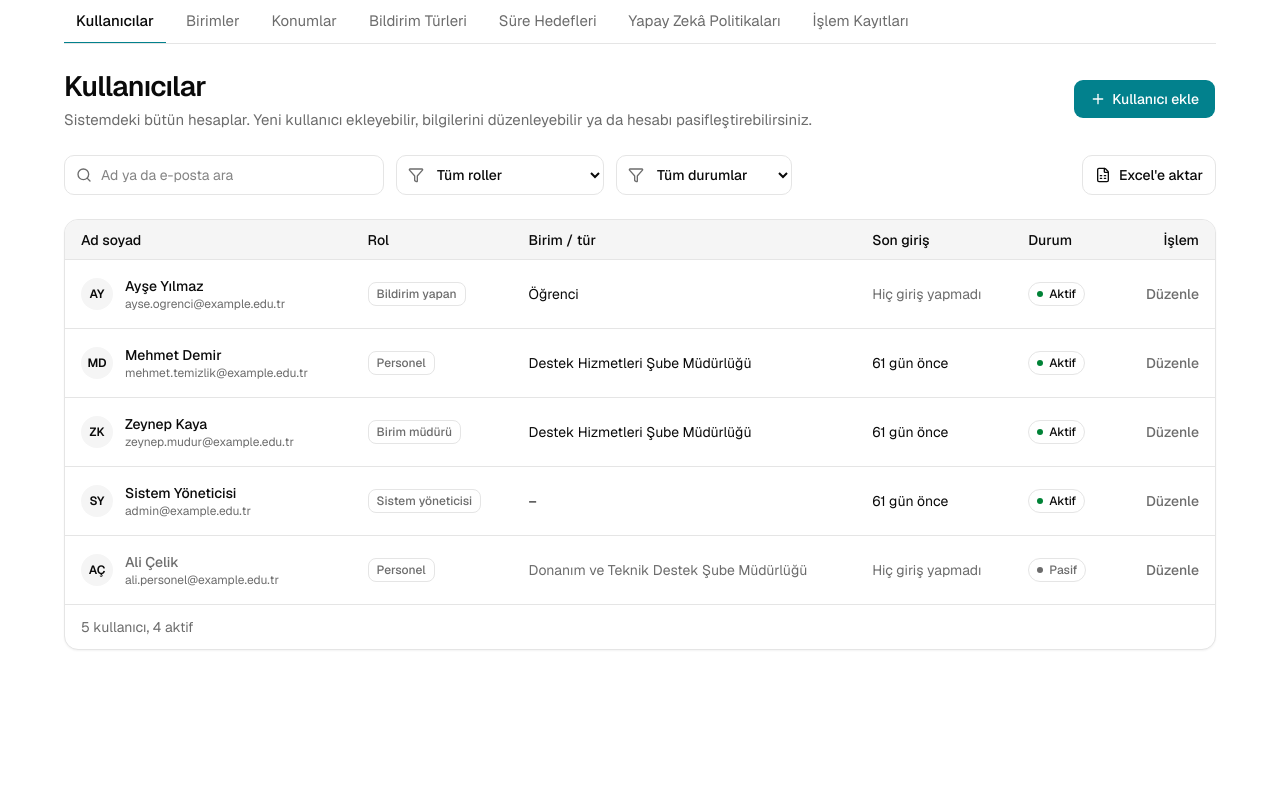
Scenario: UsersScreen › offers to clear the filters when nothing matches
The width and height of the screenshot is (1280, 800).
Type "olmayan biri" into the search field named "Kullanıcı ara" at (224, 175), box [64, 155, 384, 195]
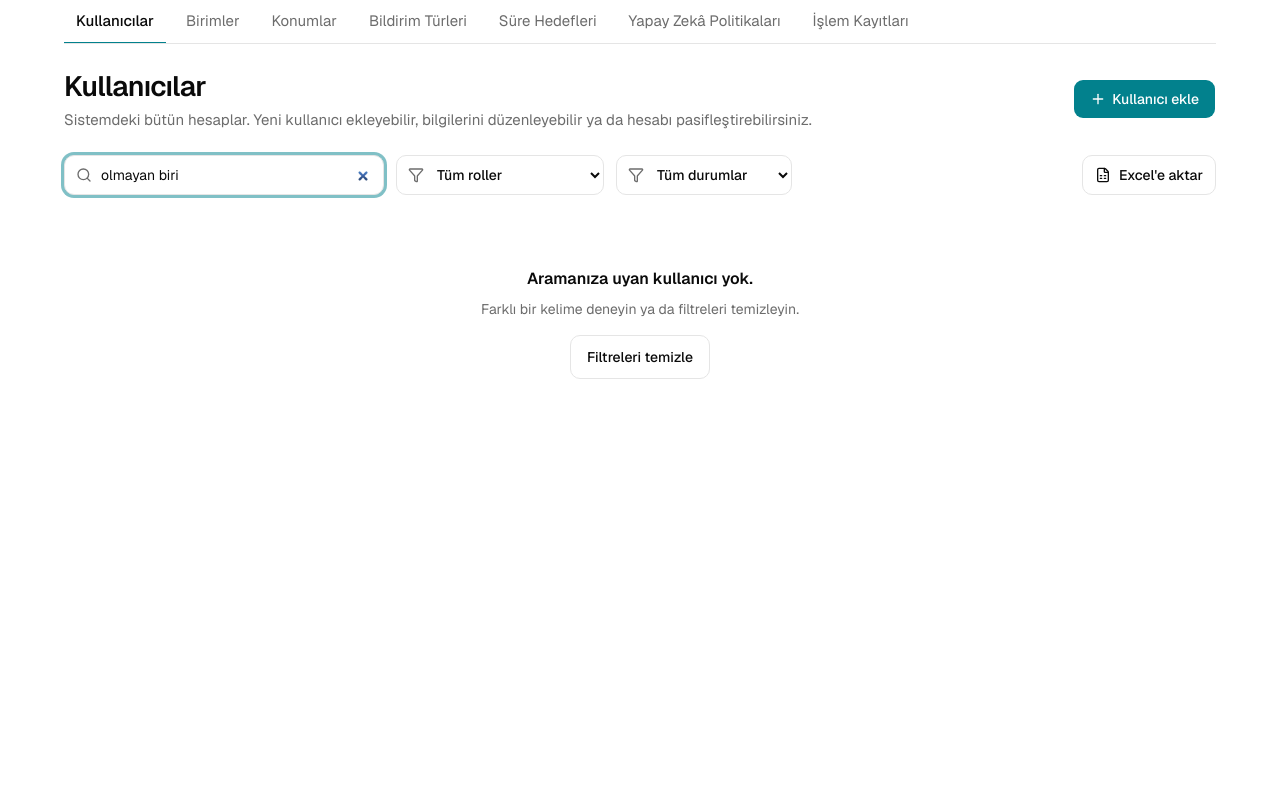
expect the text "Aramanıza uyan kullanıcı yok." is shown: met, box [527, 267, 753, 291]
Click the button "Filtreleri temizle" at (640, 357), box [570, 335, 710, 379]
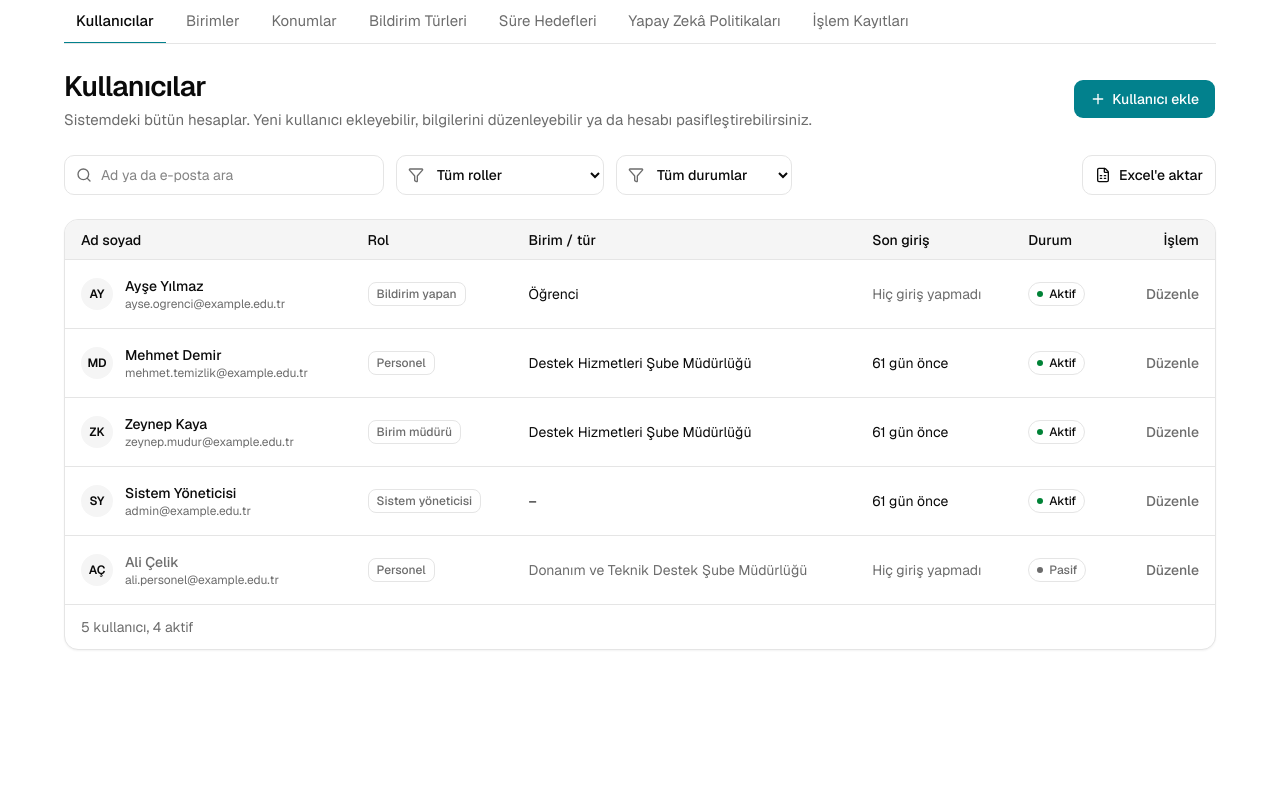
expect the search field named "Kullanıcı ara" is empty: met, box [64, 155, 384, 195]
expect the row "Mehmet Demir" is shown: met, box [65, 329, 1215, 398]
